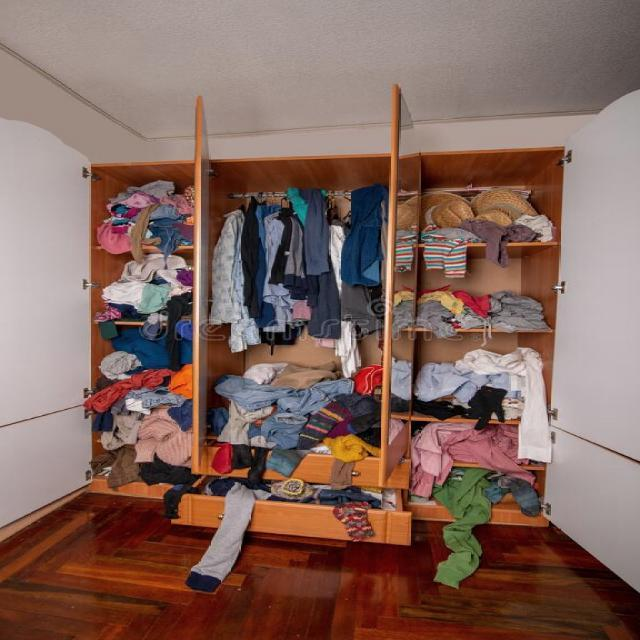clothes: (220, 205, 379, 508)
